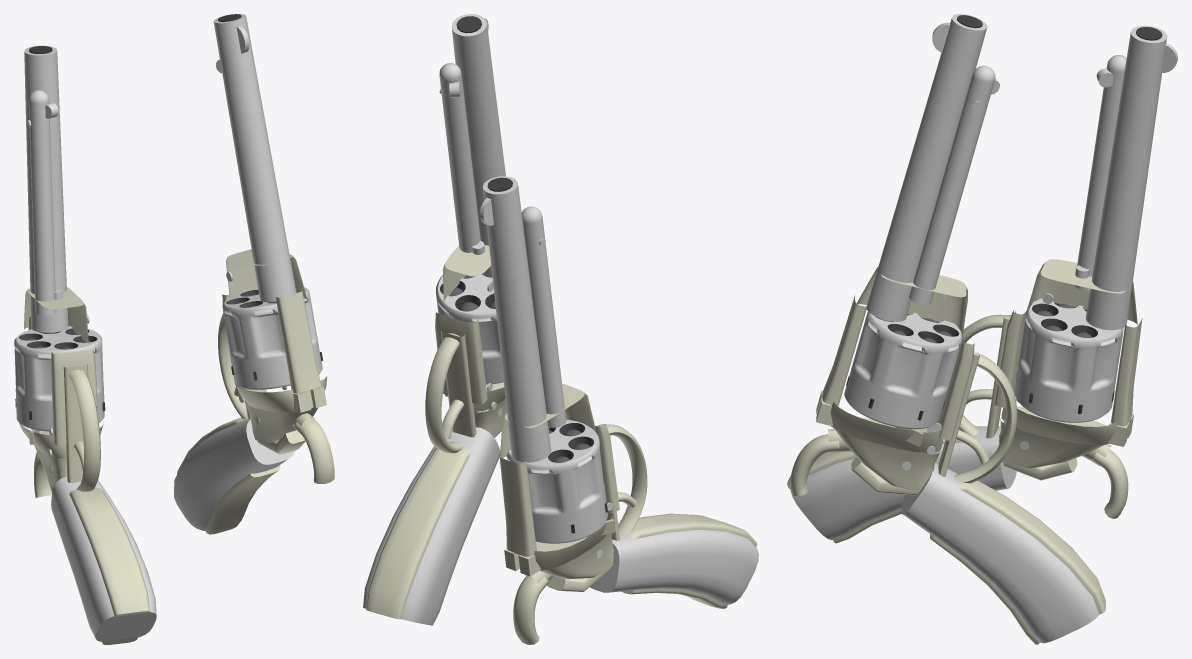
Rendered from gun.gold-medal.glb.
The picture shows the model from 3 angles, left to right: view 1: azimuth 30°, elevation 25°; view 2: azimuth 150°, elevation 25°; view 3: azimuth 270°, elevation 25°; orthographic projection. The views are drawn at different scales.
Visible parts, largest first — view 1: revolver (×2); view 2: revolver (×2); view 3: revolver (×2).
Part boxes in pixels (bbox=[...]): revolver (×2): bbox=[14, 14, 334, 644]; revolver (×2): bbox=[363, 14, 758, 644]; revolver (×2): bbox=[787, 14, 1177, 644].
Size of the model in its own units: 0.1616 by 0.3355 by 0.1944.
